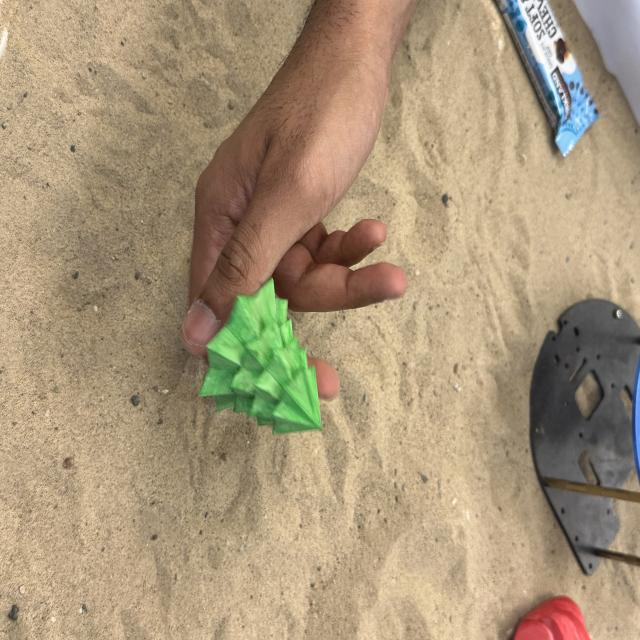tree: (198, 276, 322, 435)
